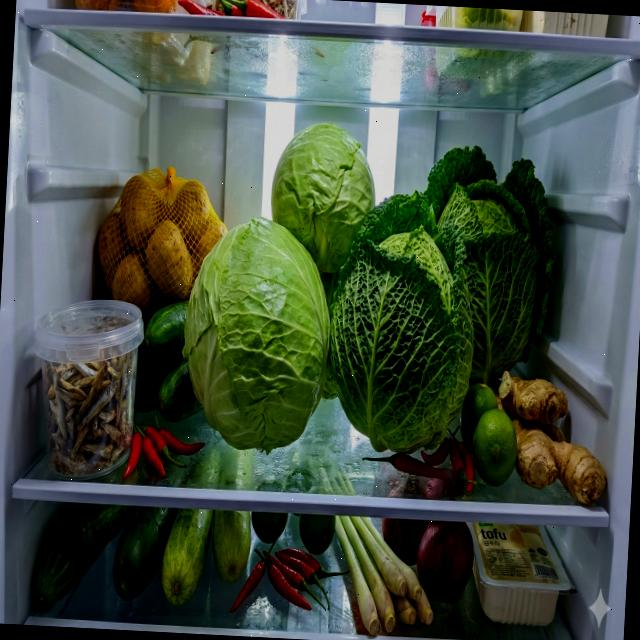anchovies: (37, 306, 140, 484)
cabbage: (324, 190, 482, 458), (176, 212, 334, 456), (417, 142, 559, 388), (268, 119, 380, 277)
chili: (230, 545, 352, 621), (361, 421, 476, 492), (122, 408, 206, 484)
cucumber: (34, 500, 252, 619), (134, 298, 210, 424)
ginger: (492, 371, 612, 506)
lemongrass: (330, 515, 440, 638)
lime: (456, 382, 521, 488), (297, 513, 337, 556), (249, 511, 289, 545)
onion: (377, 517, 476, 605)
potato: (95, 164, 231, 310)
tofu: (464, 521, 575, 629)
